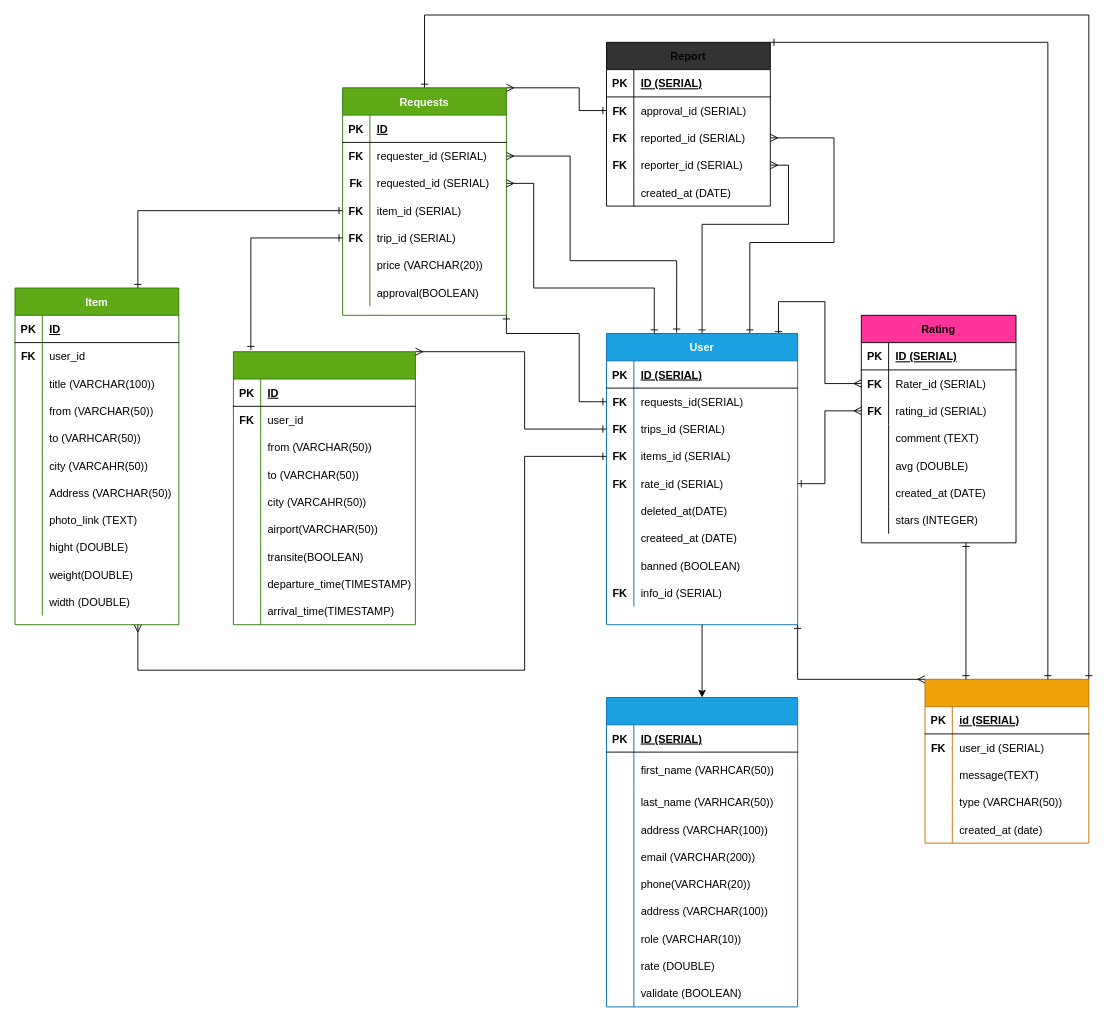
Image size: 1107x1022. Some labels were removed from this diagram. Here are the shapes that lost their labels. From the top down, the box of each, then its label:
(233, 351, 415, 625): Trips
(924, 678, 1089, 843): Notifications
(606, 697, 798, 1007): info_user
